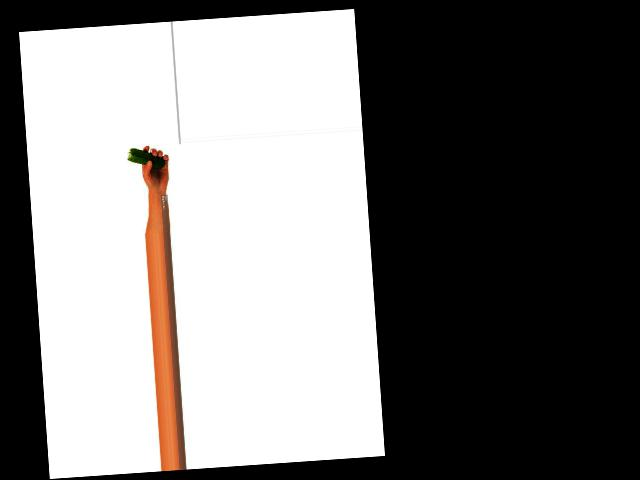cucumber: (127, 146, 166, 171)
